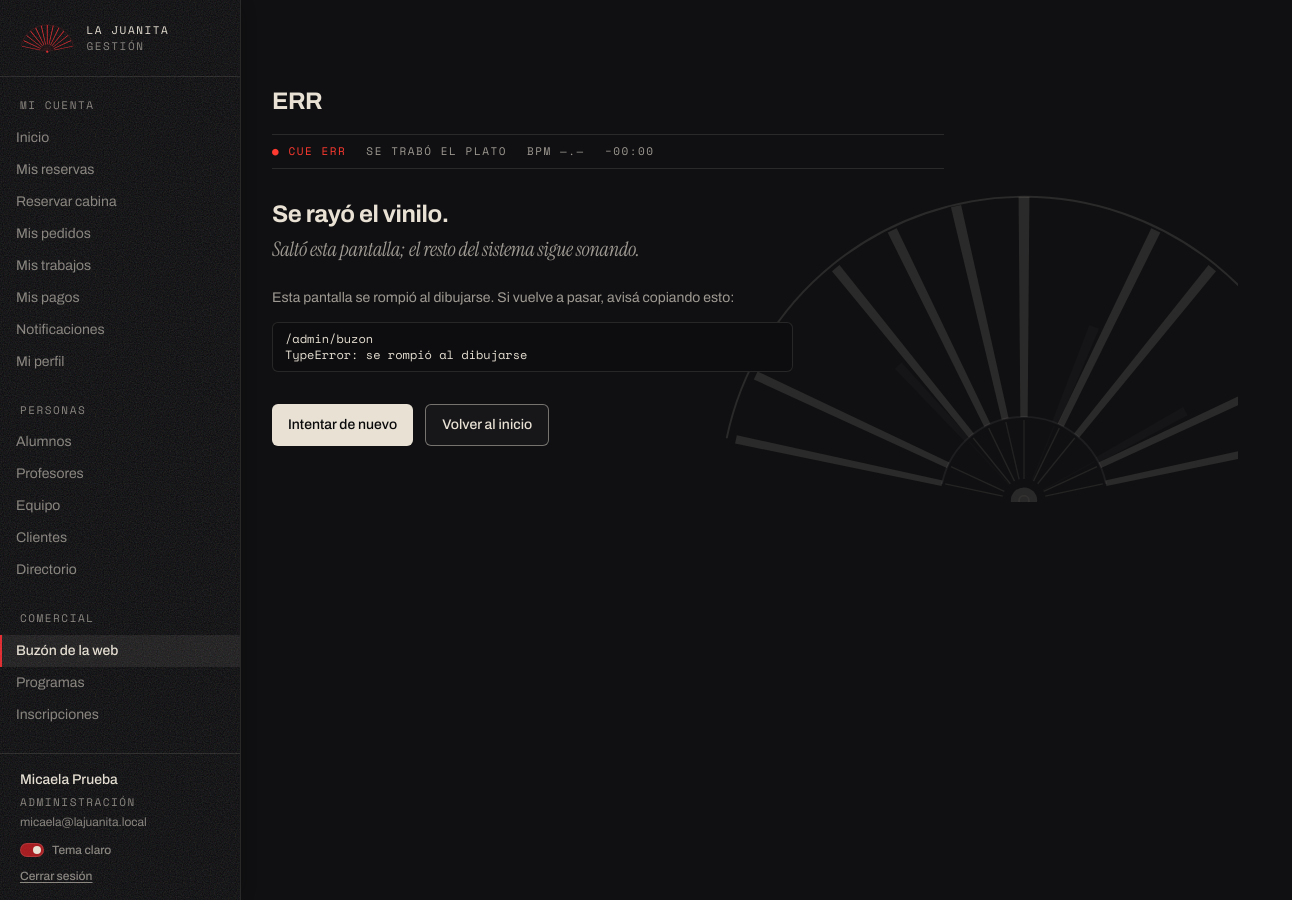
Test: una pantalla rota › se rompe sola: el sidebar sigue y otra ruta la deja atrás
This screenshot has width=1292, height=900.
Expected: the message shows "Esta pantalla se rompió", 272,290 -> 734,305
Expected: the message shows "/admin/buzon", 285,330 -> 373,347
Step 1. Click the link "Inicio" → (33, 137), box 16,130 -> 49,144
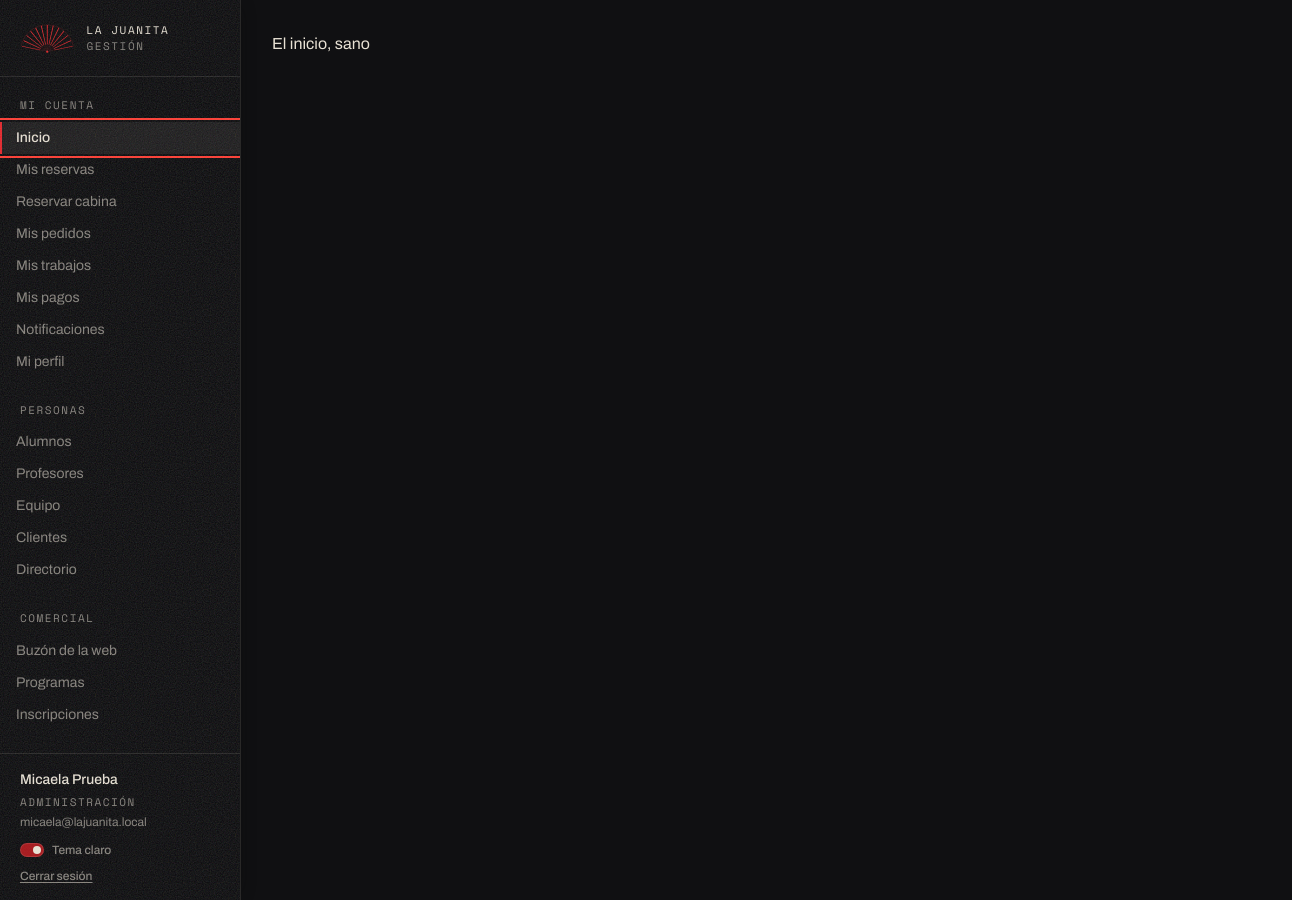
Now the text "El inicio, sano" is shown, box 272,35 -> 370,52
Now the message is gone
